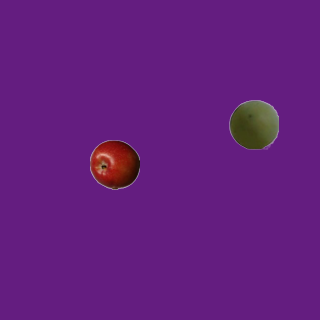Apple Braeburn: (89, 139, 139, 189)
Grape White 4: (228, 99, 278, 149)
